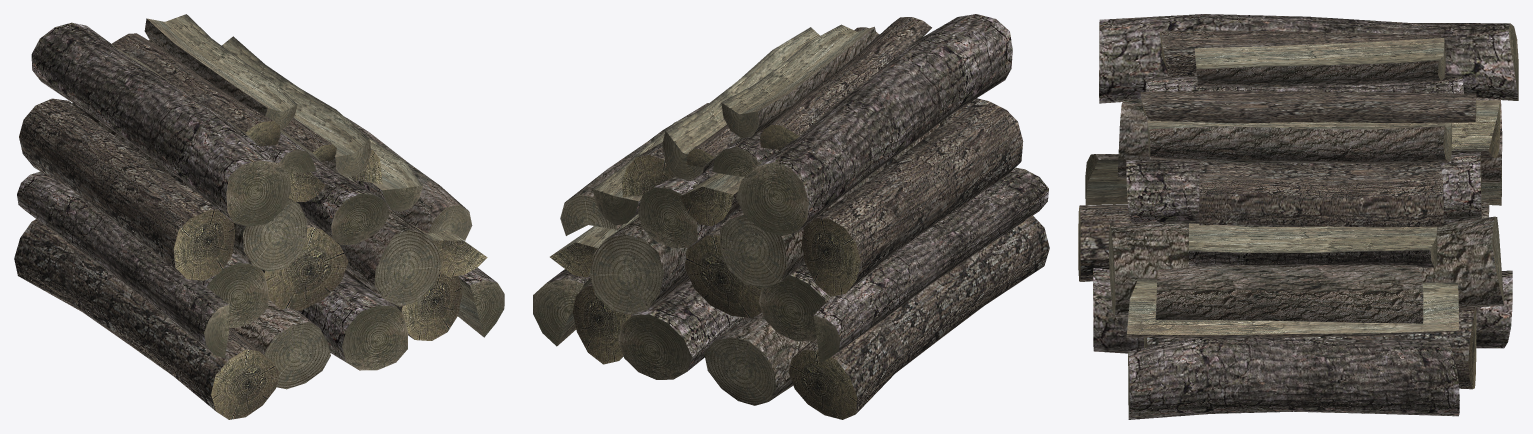
File: firewood.fbx
The picture shows the model from 3 angles, left to right: view 1: azimuth 30°, elevation 25°; view 2: azimuth 150°, elevation 25°; view 3: azimuth 270°, elevation 25°; orthographic projection. The views are drawn at different scales.
Visible parts, largest first — view 1: MB-FireWood_1736.Shape; view 2: MB-FireWood_1736.Shape; view 3: MB-FireWood_1736.Shape.
Part boxes in pixels (left/top/right/bottom): MB-FireWood_1736.Shape: left=14, top=14, right=504, bottom=419; MB-FireWood_1736.Shape: left=533, top=14, right=1049, bottom=419; MB-FireWood_1736.Shape: left=1078, top=14, right=1518, bottom=419.
Bounding box in the file's own units: 75.64 × 57.66 × 81.64.
Materials: 3 (3 with a texture image).
